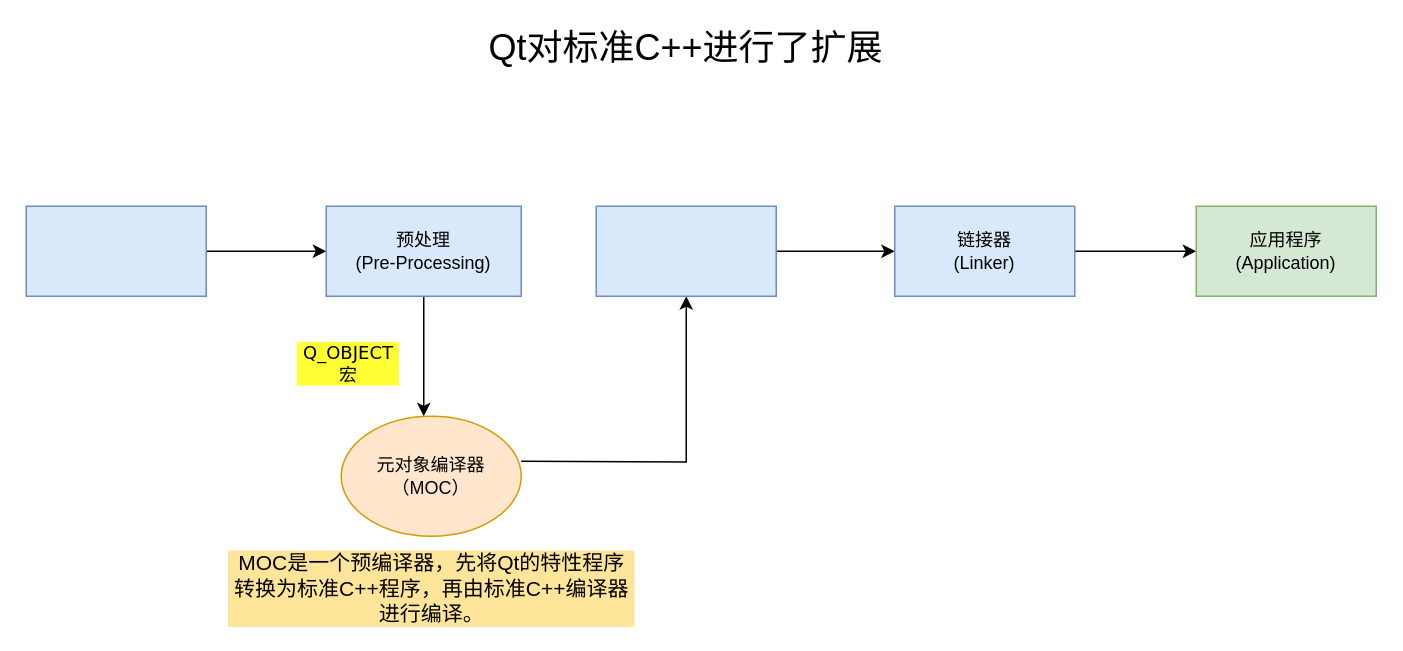
Image size: 1403x651. Some labels were removed from this diagram. Here are the shapes that lost their labels. From the top down, the centre of each, then its label:
At point (115, 250): "源代码 (Source )".
At point (685, 250): "编译器 (Compiler)".
